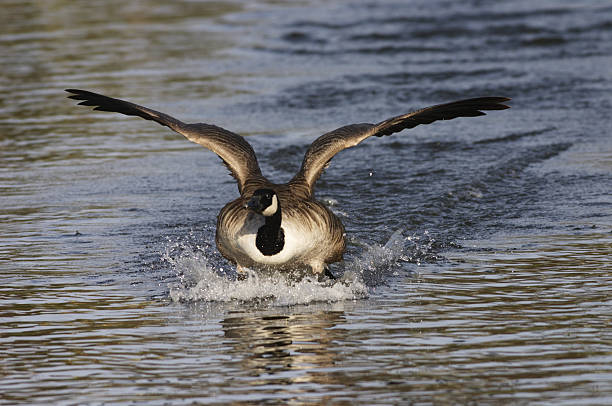goose: (50, 92, 515, 275)
